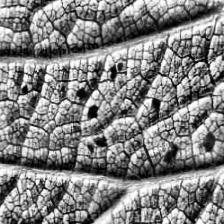Angular Leafspot: (0, 0, 224, 172)
